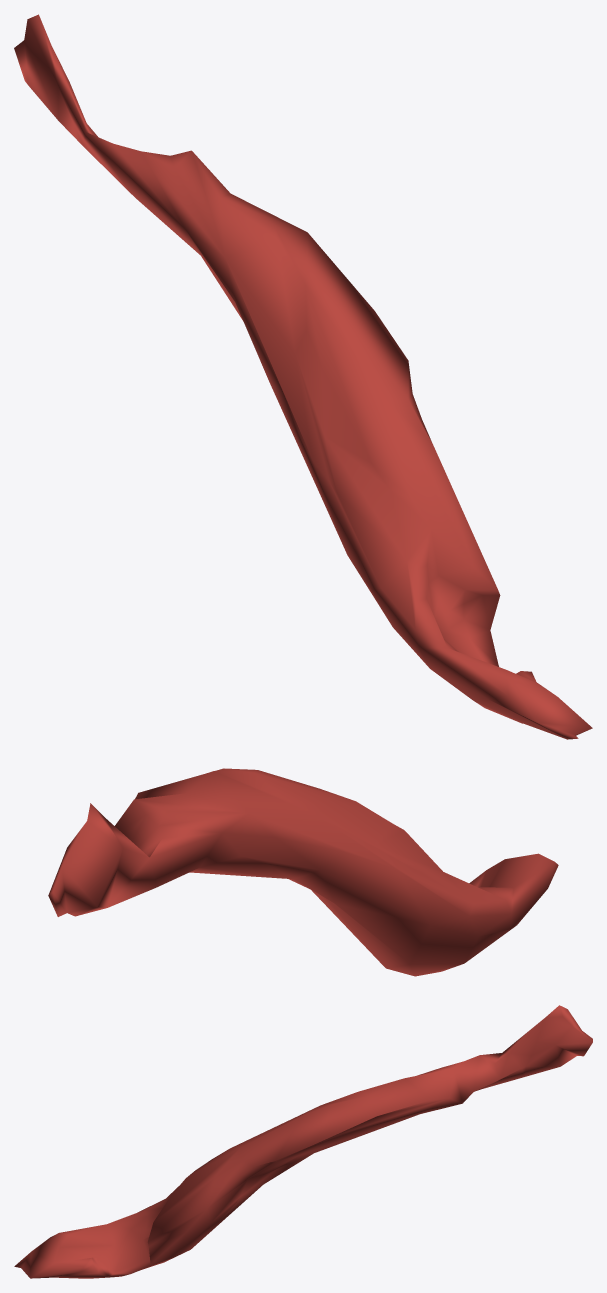
File: musculos-medial-head-of-flexor-hallucis-brevis-l.glb
3 views of the same model, one above another, from view 1: azimuth 30°, elevation 25°; view 2: azimuth 150°, elevation 25°; view 3: azimuth 270°, elevation 25° (orthographic). The views are drawn at different scales.
Parts seen in each view (by area): view 1: Medial head of flexor hallucis brevis.l; view 2: Medial head of flexor hallucis brevis.l; view 3: Medial head of flexor hallucis brevis.l.
Boxes of the visible parts, x1,y1,x2,y2 form: Medial head of flexor hallucis brevis.l: (14,14,592,739); Medial head of flexor hallucis brevis.l: (48,768,558,976); Medial head of flexor hallucis brevis.l: (14,1005,592,1278).
Bounding box in the file's own units: 0.013 × 0.0398 × 0.0829.
